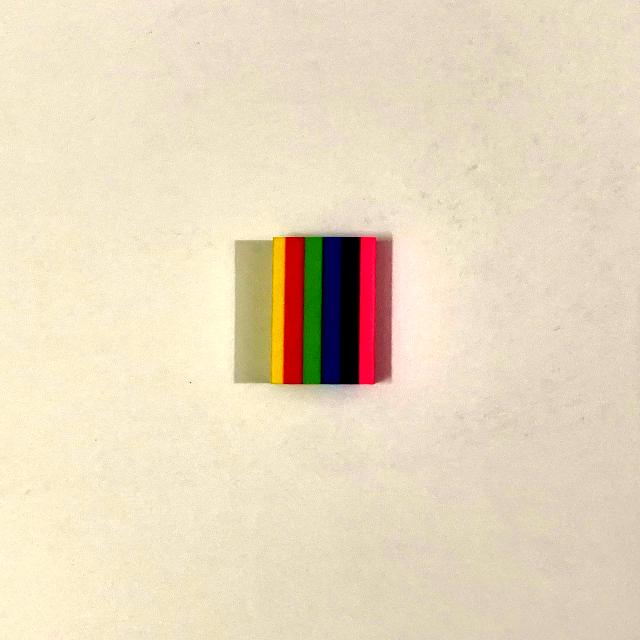Eraser: (244, 220, 414, 409)
